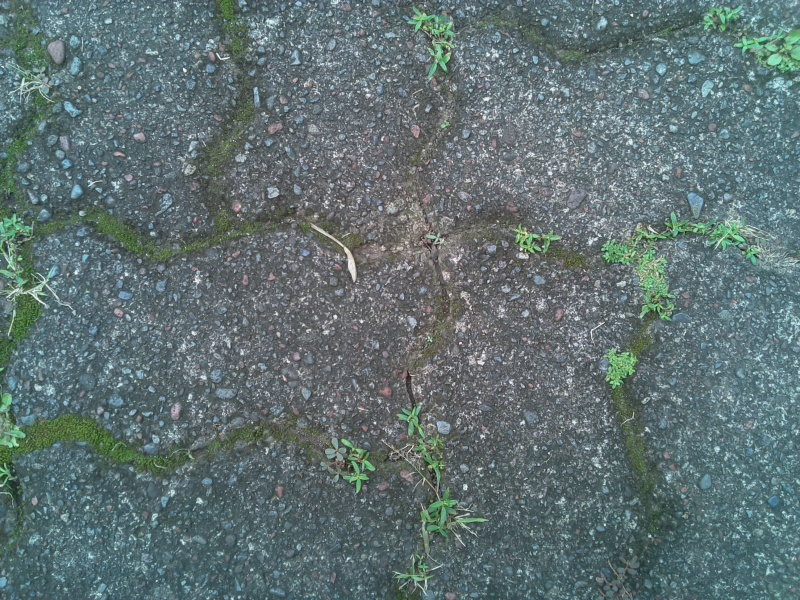Weed: (605, 233, 672, 318), (1, 207, 39, 311), (699, 216, 776, 266), (420, 495, 482, 546), (407, 12, 457, 70), (323, 437, 373, 491), (1, 370, 29, 458), (752, 28, 800, 73), (601, 341, 641, 390), (510, 222, 559, 259), (393, 555, 433, 596), (395, 397, 429, 439), (700, 6, 743, 35)
